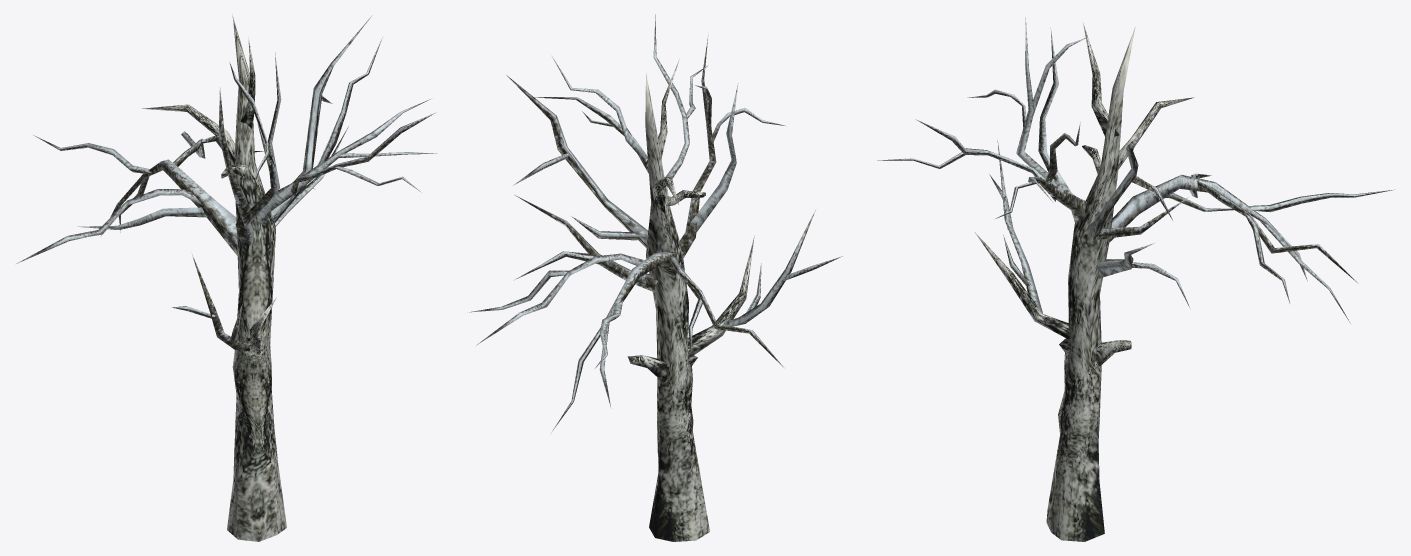
Rendered from S_Tree_White011.FBX.
3 renders of one model, left to right at view 1: azimuth 30°, elevation 25°; view 2: azimuth 150°, elevation 25°; view 3: azimuth 270°, elevation 25°, orthographic. The views are drawn at different scales.
Visible parts, largest first — view 1: S_Tree_White010; view 2: S_Tree_White010; view 3: S_Tree_White010.
Boxes of the visible parts, x1,y1,x2,y2 form: S_Tree_White010: (16,14,437,541); S_Tree_White010: (467,14,842,541); S_Tree_White010: (877,17,1394,541).
Size of the model in its own units: 623 by 801 by 864.
